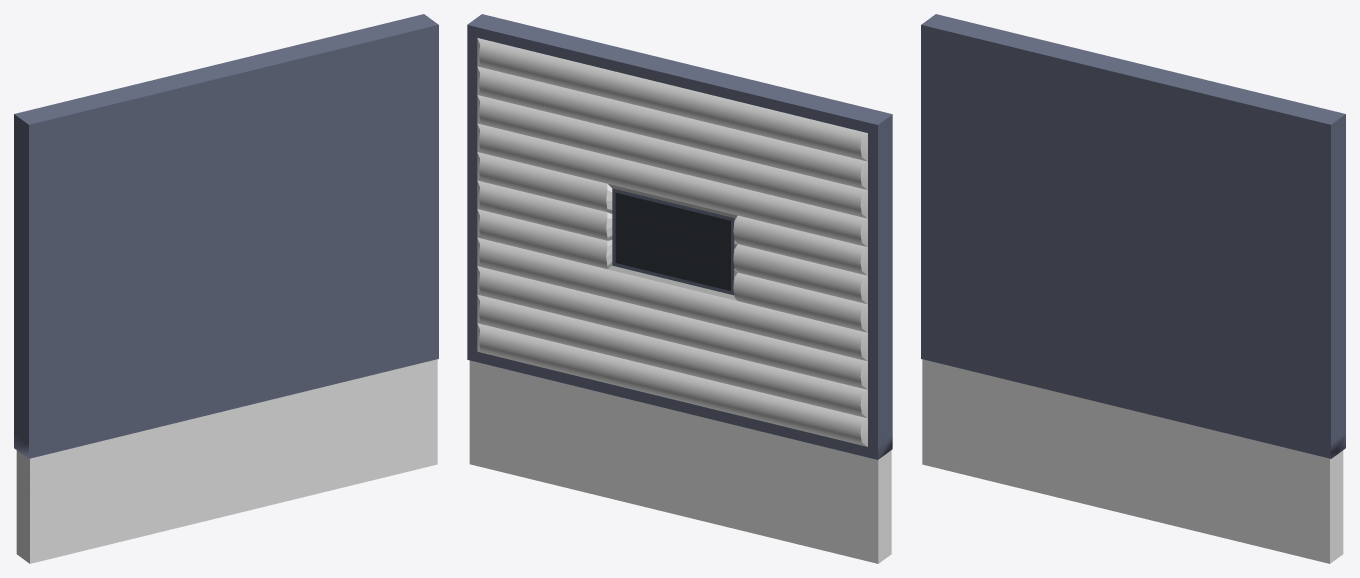
The model's file is ExteriorWallWindow.FBX.
The picture shows the model from 3 angles, left to right: view 1: azimuth 30°, elevation 25°; view 2: azimuth 150°, elevation 25°; view 3: azimuth 330°, elevation 25°; orthographic projection.
Parts seen in each view (by area): view 1: ExteriorWallWindow; view 2: ExteriorWallWindow; view 3: ExteriorWallWindow.
Boxes of the visible parts, x1,y1,x2,y2 form: ExteriorWallWindow: (14,14,438,563); ExteriorWallWindow: (467,14,892,563); ExteriorWallWindow: (921,14,1345,563).
Bounding box in the file's own units: 40.73 × 41.71 × 3.03.
